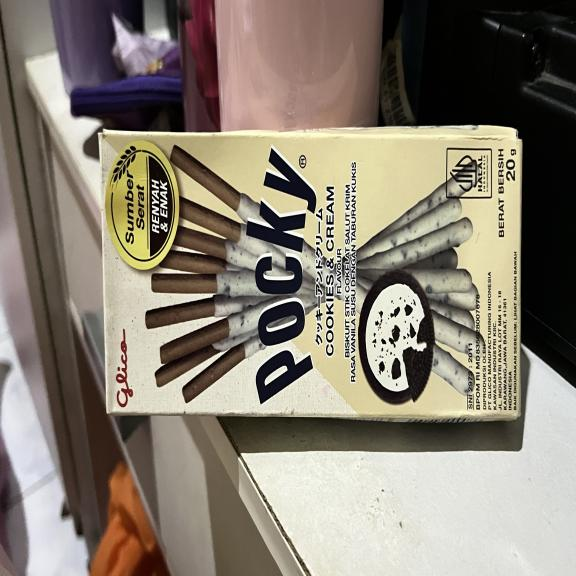Kertas: (101, 132, 521, 413)
